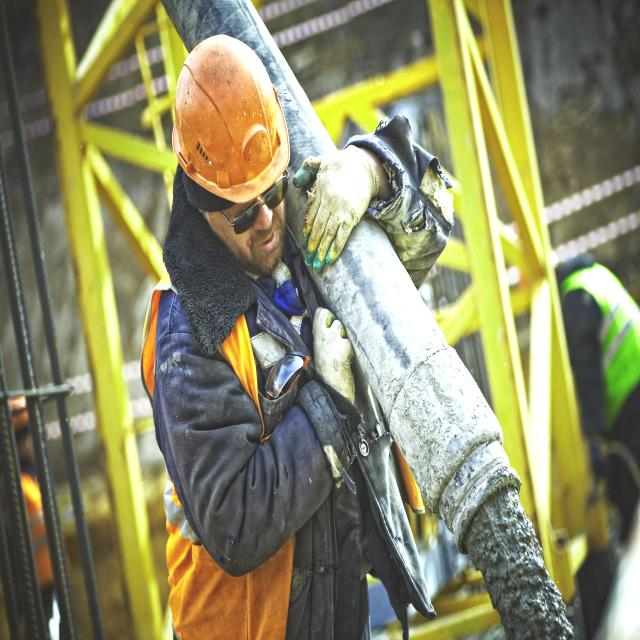face_nomask: (220, 173, 286, 280)
glasses: (228, 168, 293, 240)
hand_glove: (296, 125, 379, 272), (310, 298, 360, 402)
head_helmet: (168, 33, 286, 200)
person: (163, 41, 392, 636)
vest: (164, 284, 307, 636), (569, 231, 637, 414), (24, 478, 48, 572)
